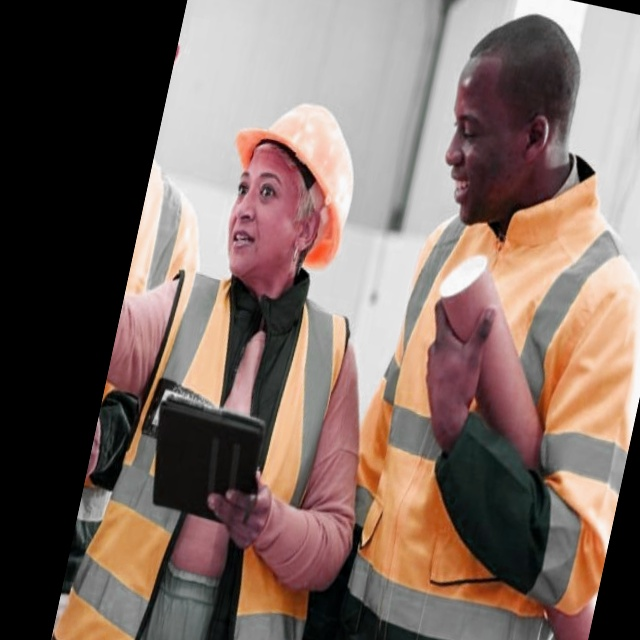Con_Casco: (207, 85, 371, 301)
Con_Chaleco: (312, 187, 640, 640), (47, 261, 371, 640)
Sin_Casco_Mascarrilla: (434, 0, 593, 245)
